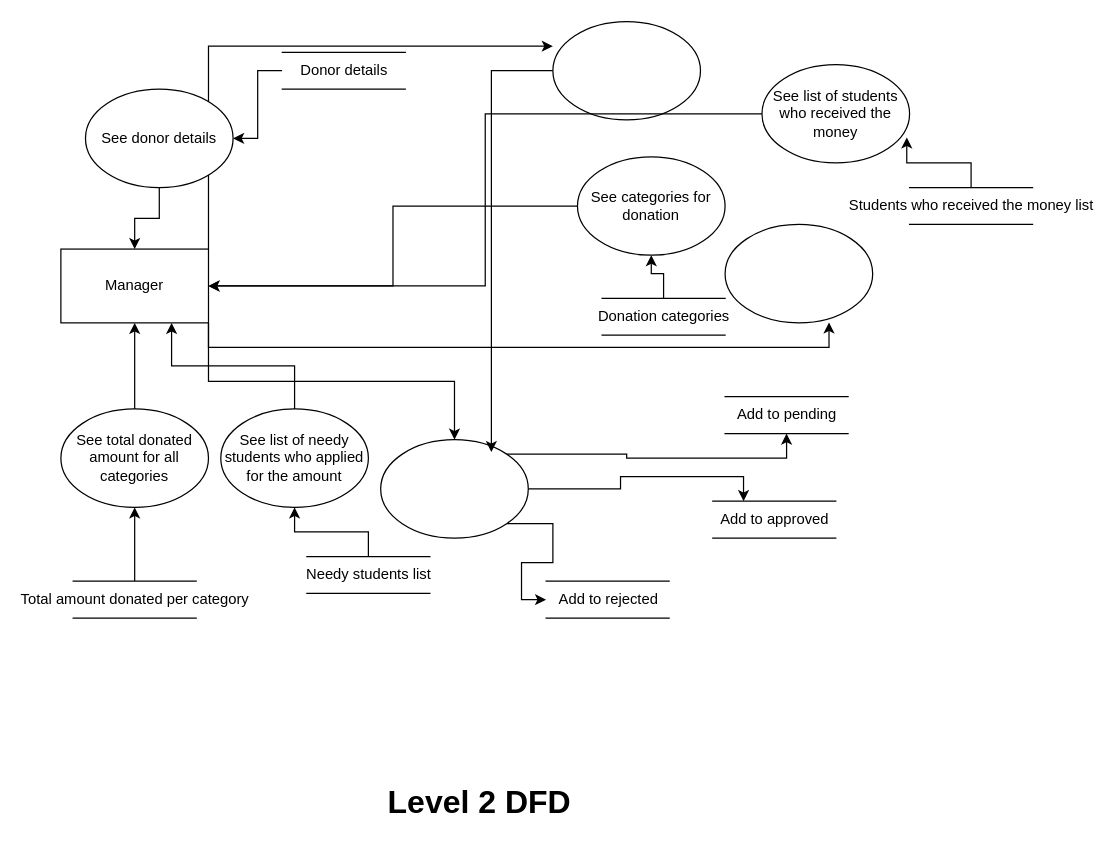
Some shapes in this 1114 by 843 pixel diagram are drawn without their labels. Here are the shapes that lost their labels. From the top down, the centre of each, then its label:
At (626,70): "interview students".
At (798,273): "Email Students".
At (453,488): "Change status of needy students".
